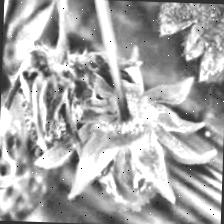Gray Mold: (14, 32, 120, 158)
